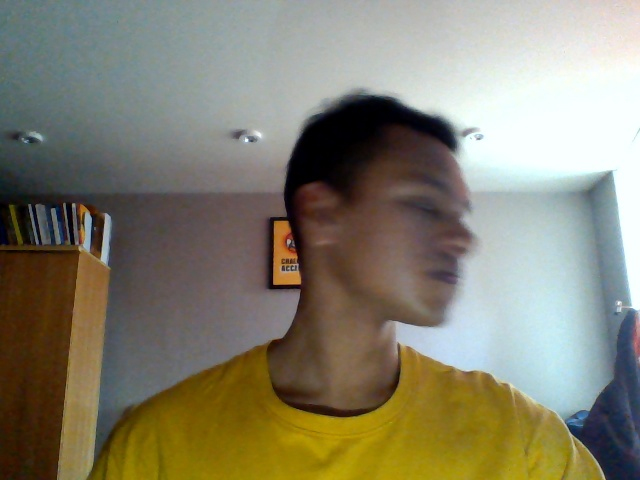no_mask: (343, 226, 478, 334)
